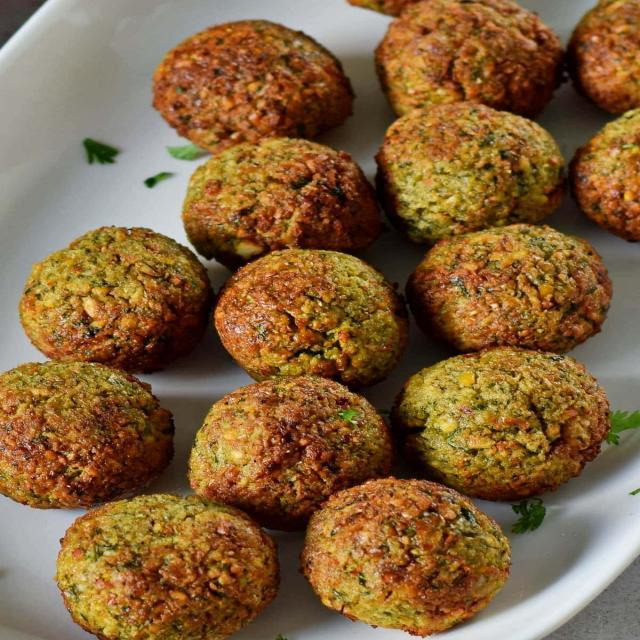flafel: (53, 495, 276, 640), (317, 479, 515, 638), (400, 349, 604, 501), (402, 224, 616, 348), (22, 227, 202, 371), (6, 352, 172, 508), (210, 251, 400, 385), (153, 18, 362, 139), (381, 103, 559, 227)
